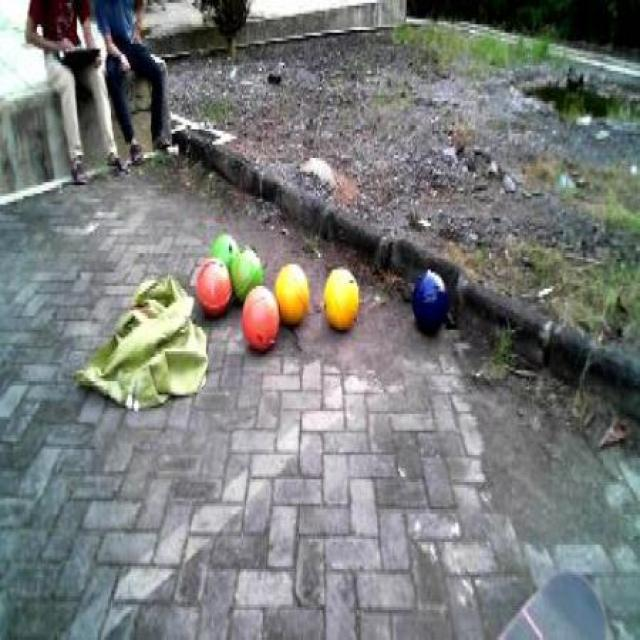buoy: (236, 274, 285, 360), (189, 243, 236, 326), (409, 262, 453, 345), (320, 258, 363, 338), (270, 256, 312, 324), (227, 235, 265, 295)
